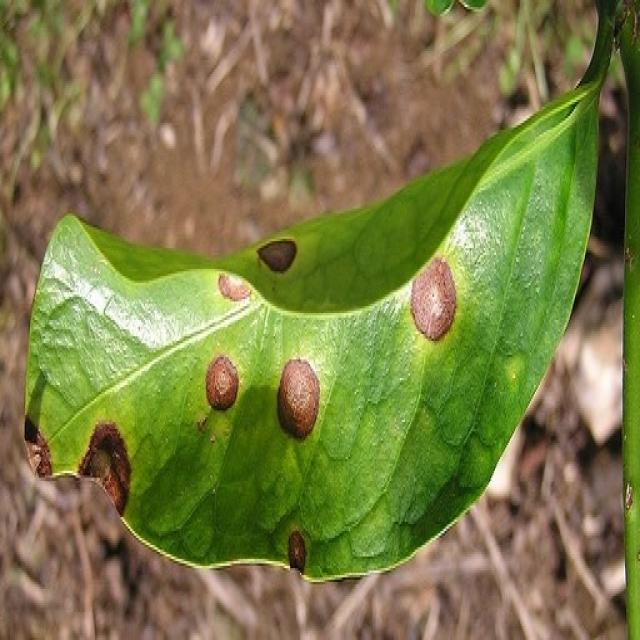Enfermedad-Mancha-de-hierro: (24, 42, 602, 584)
